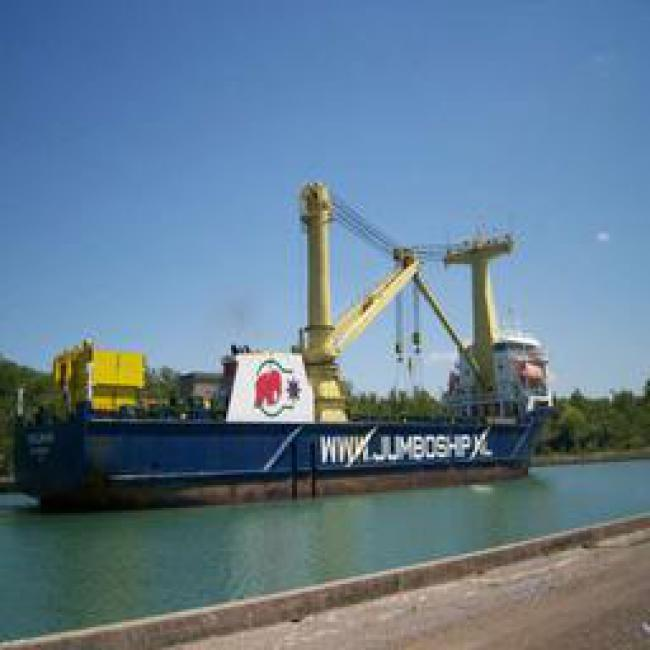Ship: (44, 379, 552, 501)
